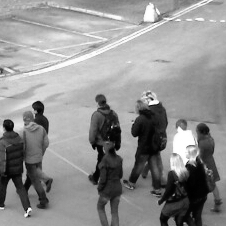person: (123, 100, 162, 196), (1, 119, 32, 219), (19, 111, 50, 209), (88, 93, 121, 185), (142, 89, 168, 189), (195, 120, 221, 214), (159, 153, 190, 226), (182, 145, 210, 225), (98, 139, 122, 226), (30, 100, 52, 191), (173, 118, 198, 167)
